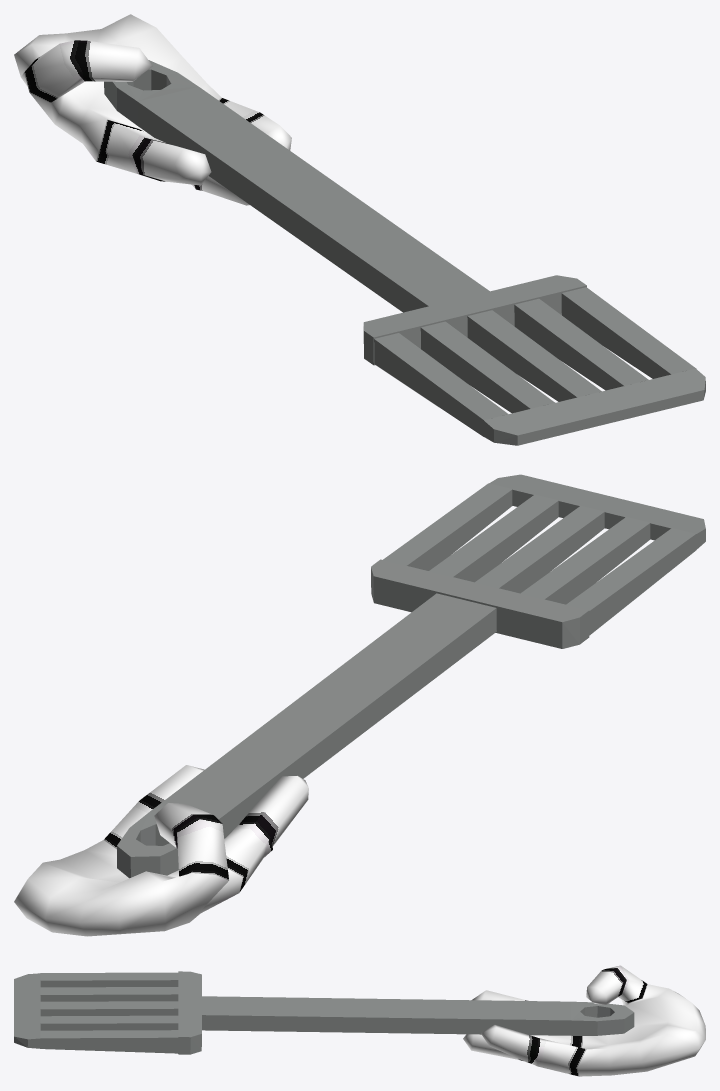
Rendered from grim_mano.obj.
3 renders of one model, top to bottom at view 1: azimuth 30°, elevation 25°; view 2: azimuth 150°, elevation 25°; view 3: azimuth 270°, elevation 25°, orthographic. The views are drawn at different scales.
Parts seen in each view (by area): view 1: mano; view 2: mano; view 3: mano.
Part boxes in pixels (<box>): mano: <box>14,14,705,445</box>; mano: <box>14,474,705,936</box>; mano: <box>14,965,705,1076</box>.
Bounding box in the file's own units: 0.7144 × 0.3915 × 3.19.
2 materials, 2 textured.
